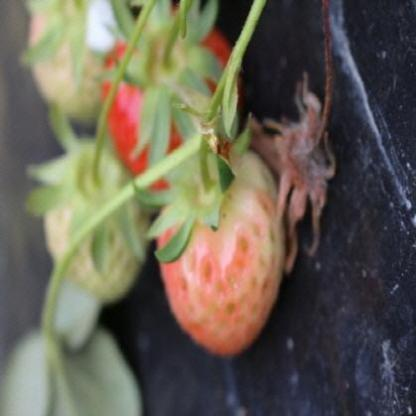Strawberry_Gray_Mold: (250, 72, 338, 276)
